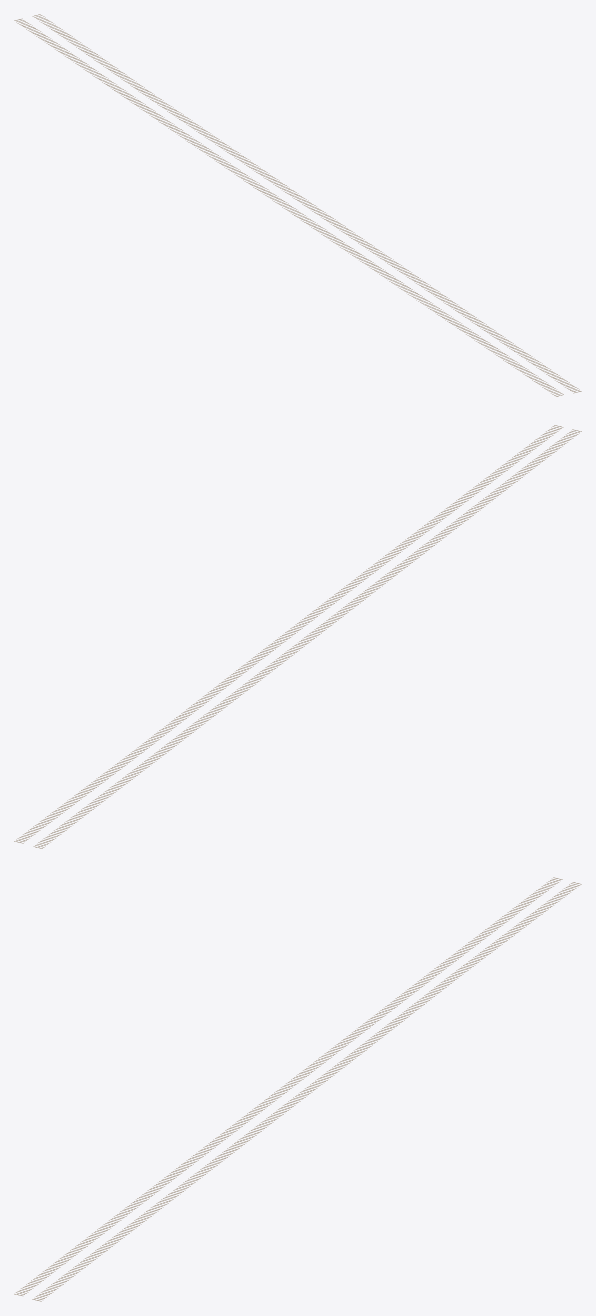
File: c_1629_17841_rail_sleeper.glb
The picture shows the model from 3 angles, top to bottom: view 1: azimuth 30°, elevation 25°; view 2: azimuth 150°, elevation 25°; view 3: azimuth 330°, elevation 25°; orthographic projection. The views are drawn at different scales.
Parts seen in each view (by area): view 1: geometry_0; view 2: geometry_0; view 3: geometry_0.
Boxes of the visible parts, <box> form: geometry_0: <box>14,14,581,396</box>; geometry_0: <box>14,425,581,848</box>; geometry_0: <box>14,877,581,1301</box>.
Bounding box in the file's own units: 13.19 × 0.1394 × 256.
